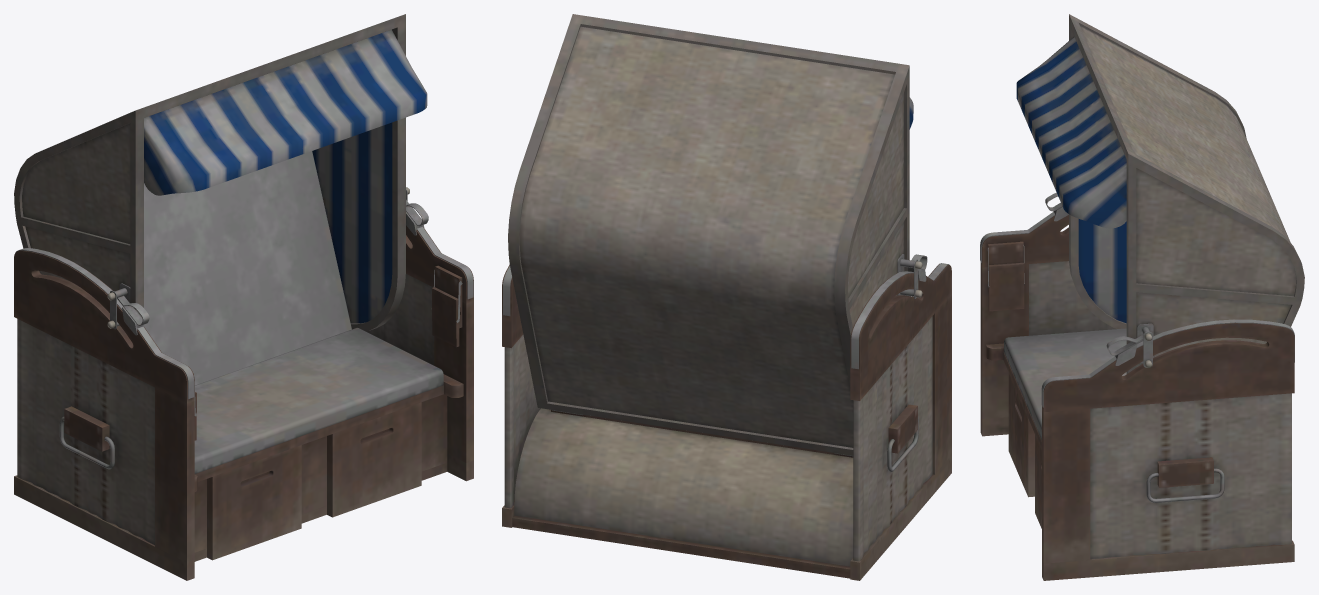
The model's file is ItemSpot.fbx.
The picture shows the model from 3 angles, left to right: view 1: azimuth 30°, elevation 25°; view 2: azimuth 150°, elevation 25°; view 3: azimuth 270°, elevation 25°; orthographic projection. The views are drawn at different scales.
Parts seen in each view (by area): view 1: ItemBox_BeachChair; view 2: ItemBox_BeachChair; view 3: ItemBox_BeachChair.
Boxes of the visible parts, x1,y1,x2,y2 form: ItemBox_BeachChair: [14, 14, 473, 580]; ItemBox_BeachChair: [502, 14, 951, 580]; ItemBox_BeachChair: [980, 14, 1304, 580].
Bounding box in the file's own units: 1.94 × 2.25 × 1.59.
Materials: 1 (1 with a texture image).
